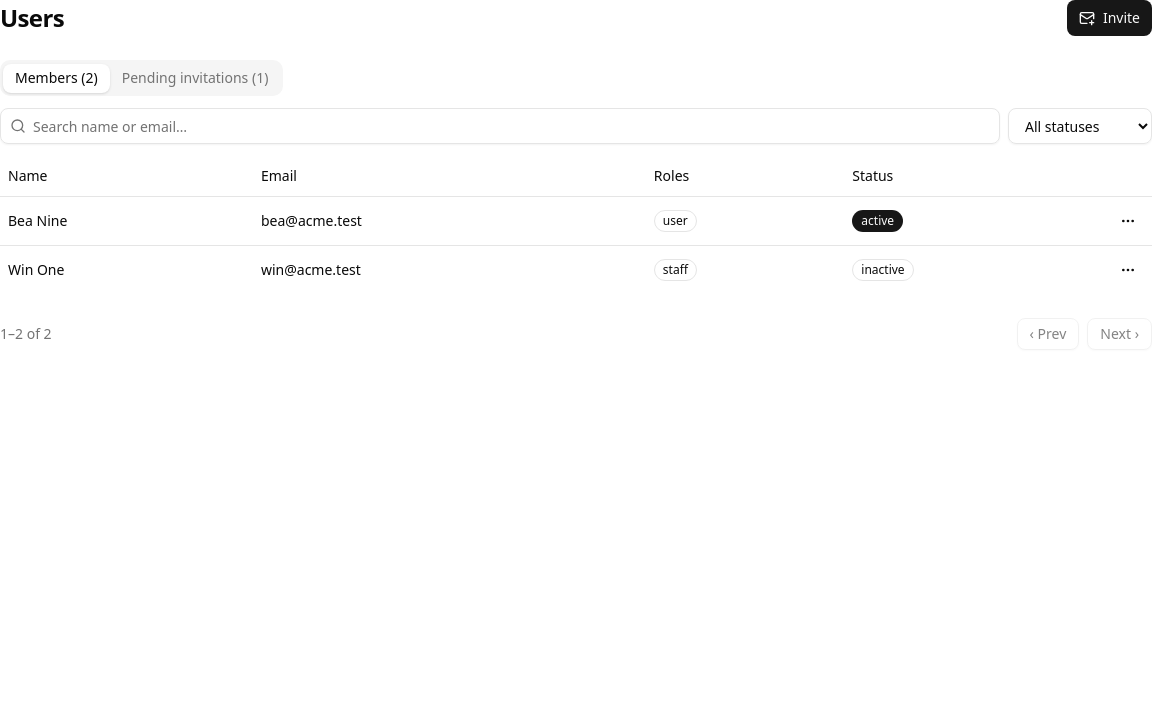
Users page › invite sends email + role; a 409 shows the server message
Click the button "Invite": [1109, 18] box [1067,0,1151,36]
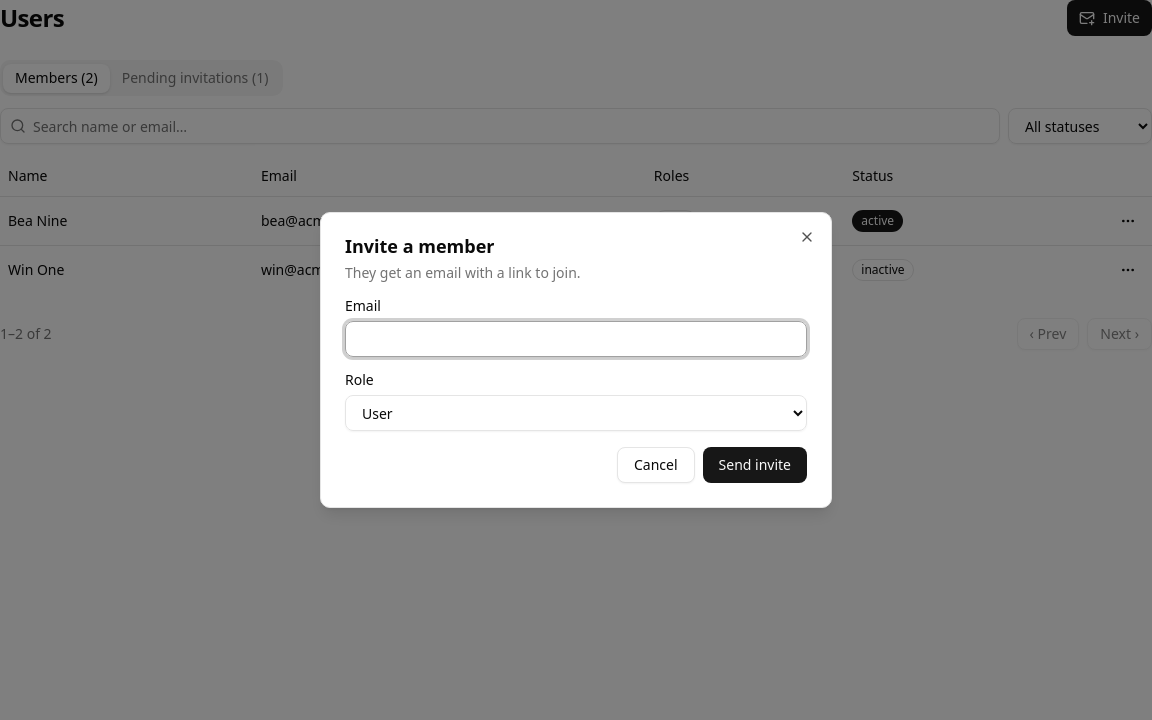
Click the button "Send invite": [755, 465] box [703,447,807,483]
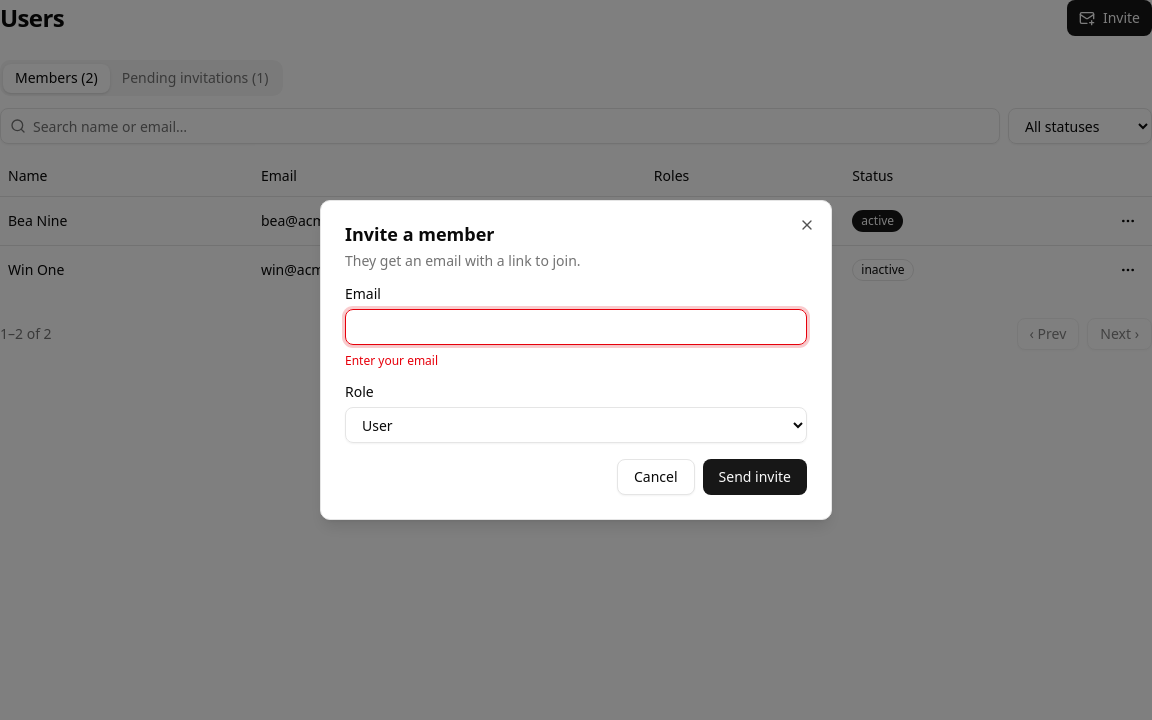
Result: the text "Enter your email" is shown at [345,352,438,369]
In the field labelled "Email": [576, 327] box [345,309,807,345], type "Bea@Acme.test"
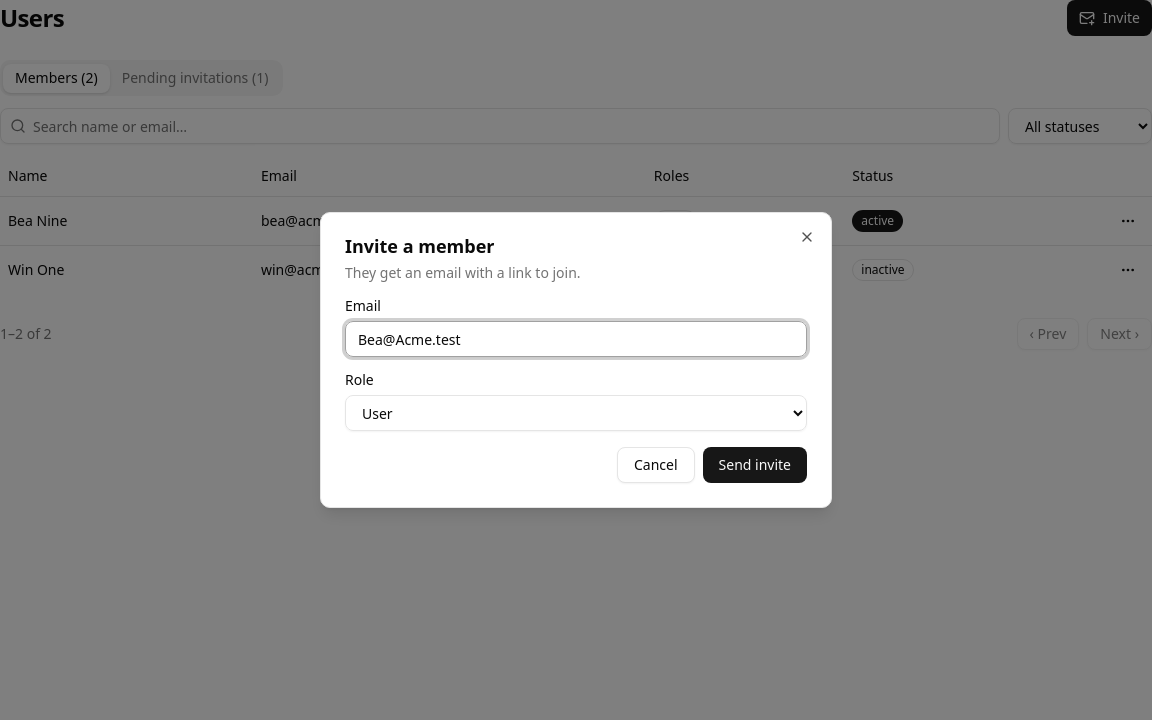
Select "Staff" in the dropdown labelled "Role": [576, 413] box [345,395,807,431]
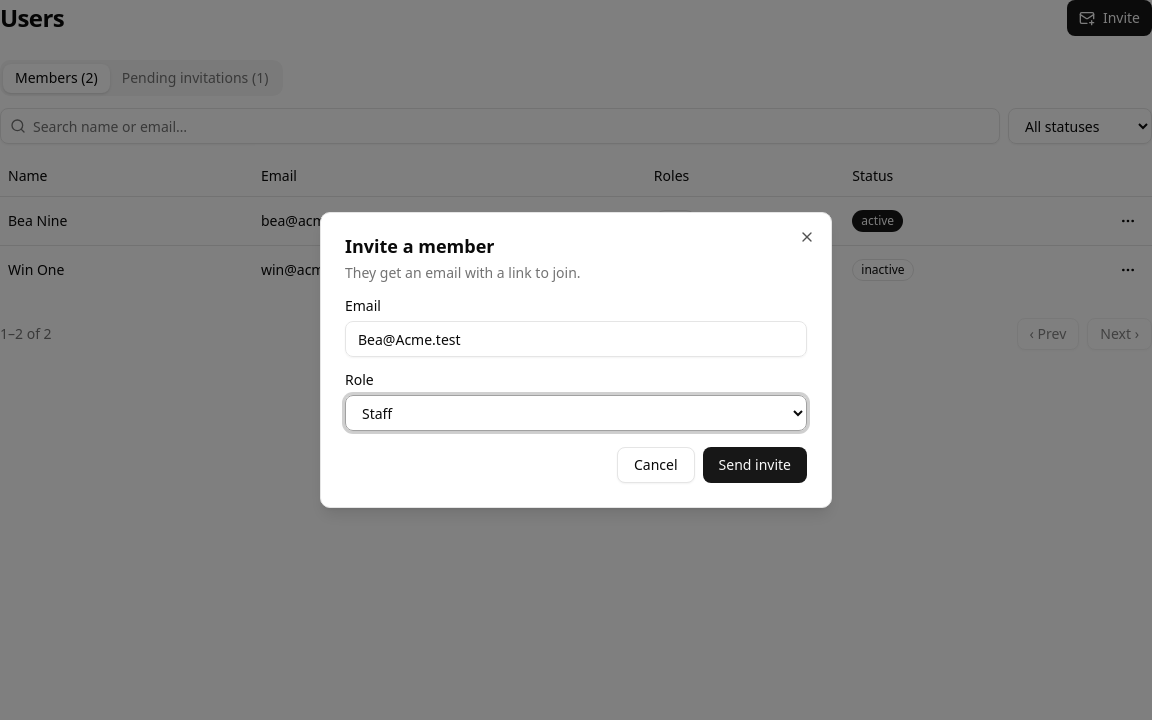
Click the button "Send invite": [755, 465] box [703,447,807,483]
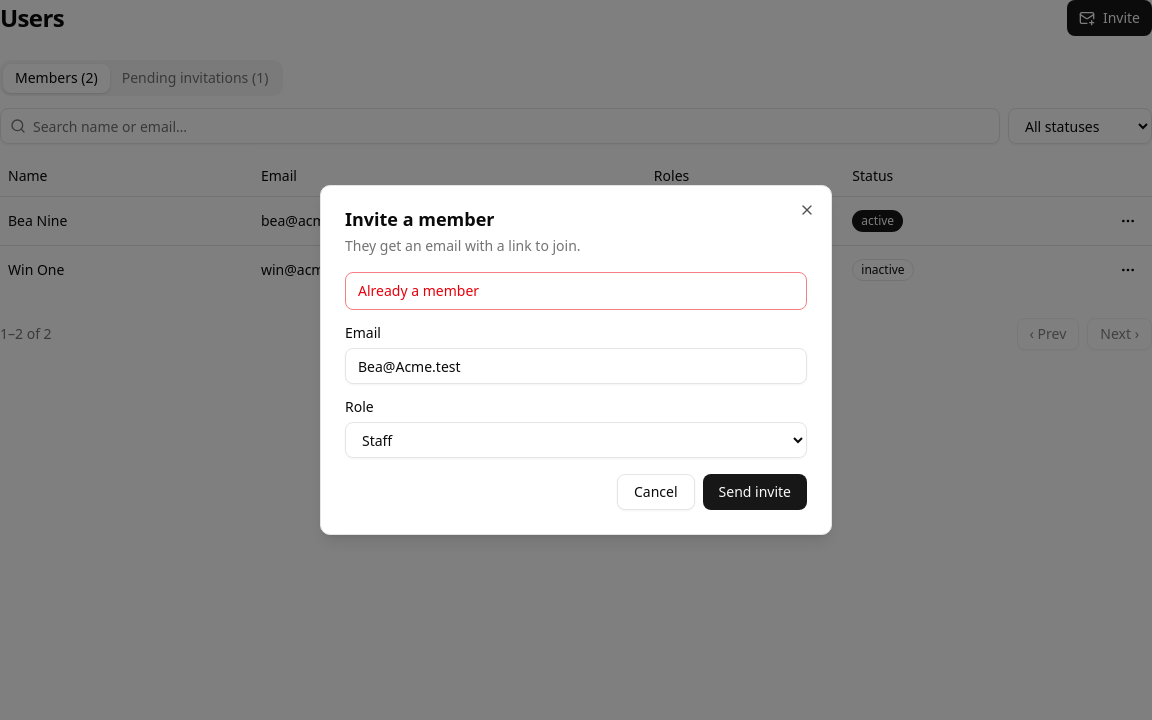
Result: the message reads "Already a member" at [358,281,479,300]
Click the button "Send invite": [755, 492] box [703,474,807,510]
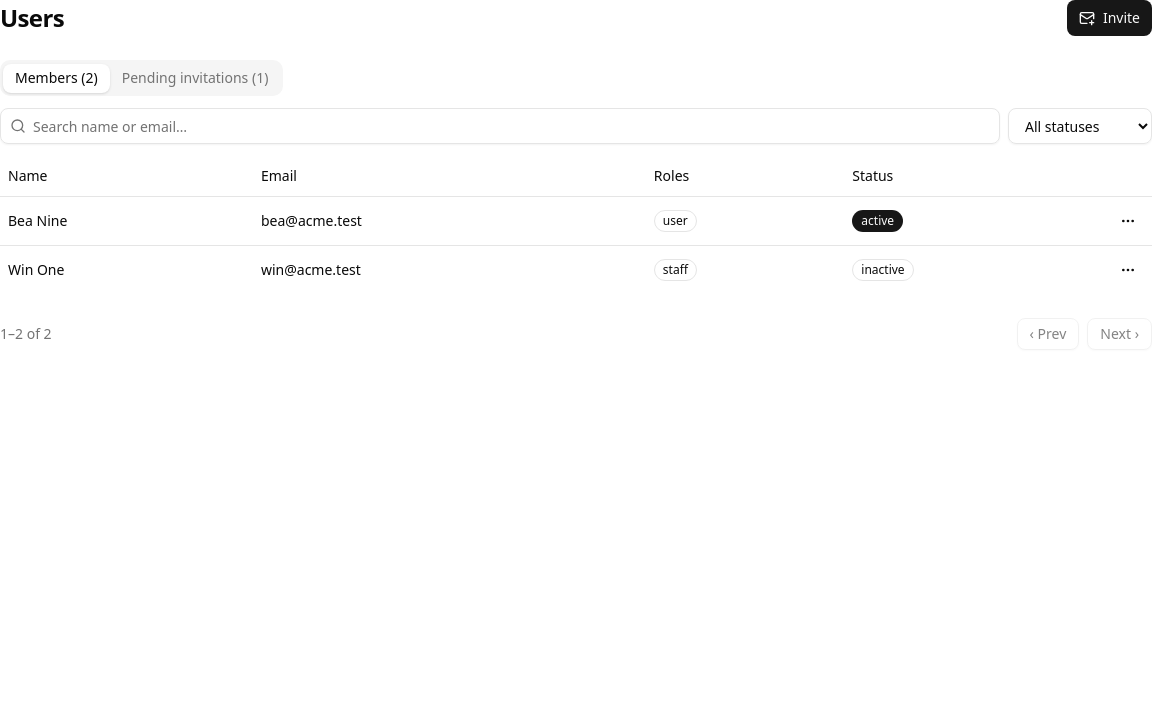
Result: the dialog is gone
